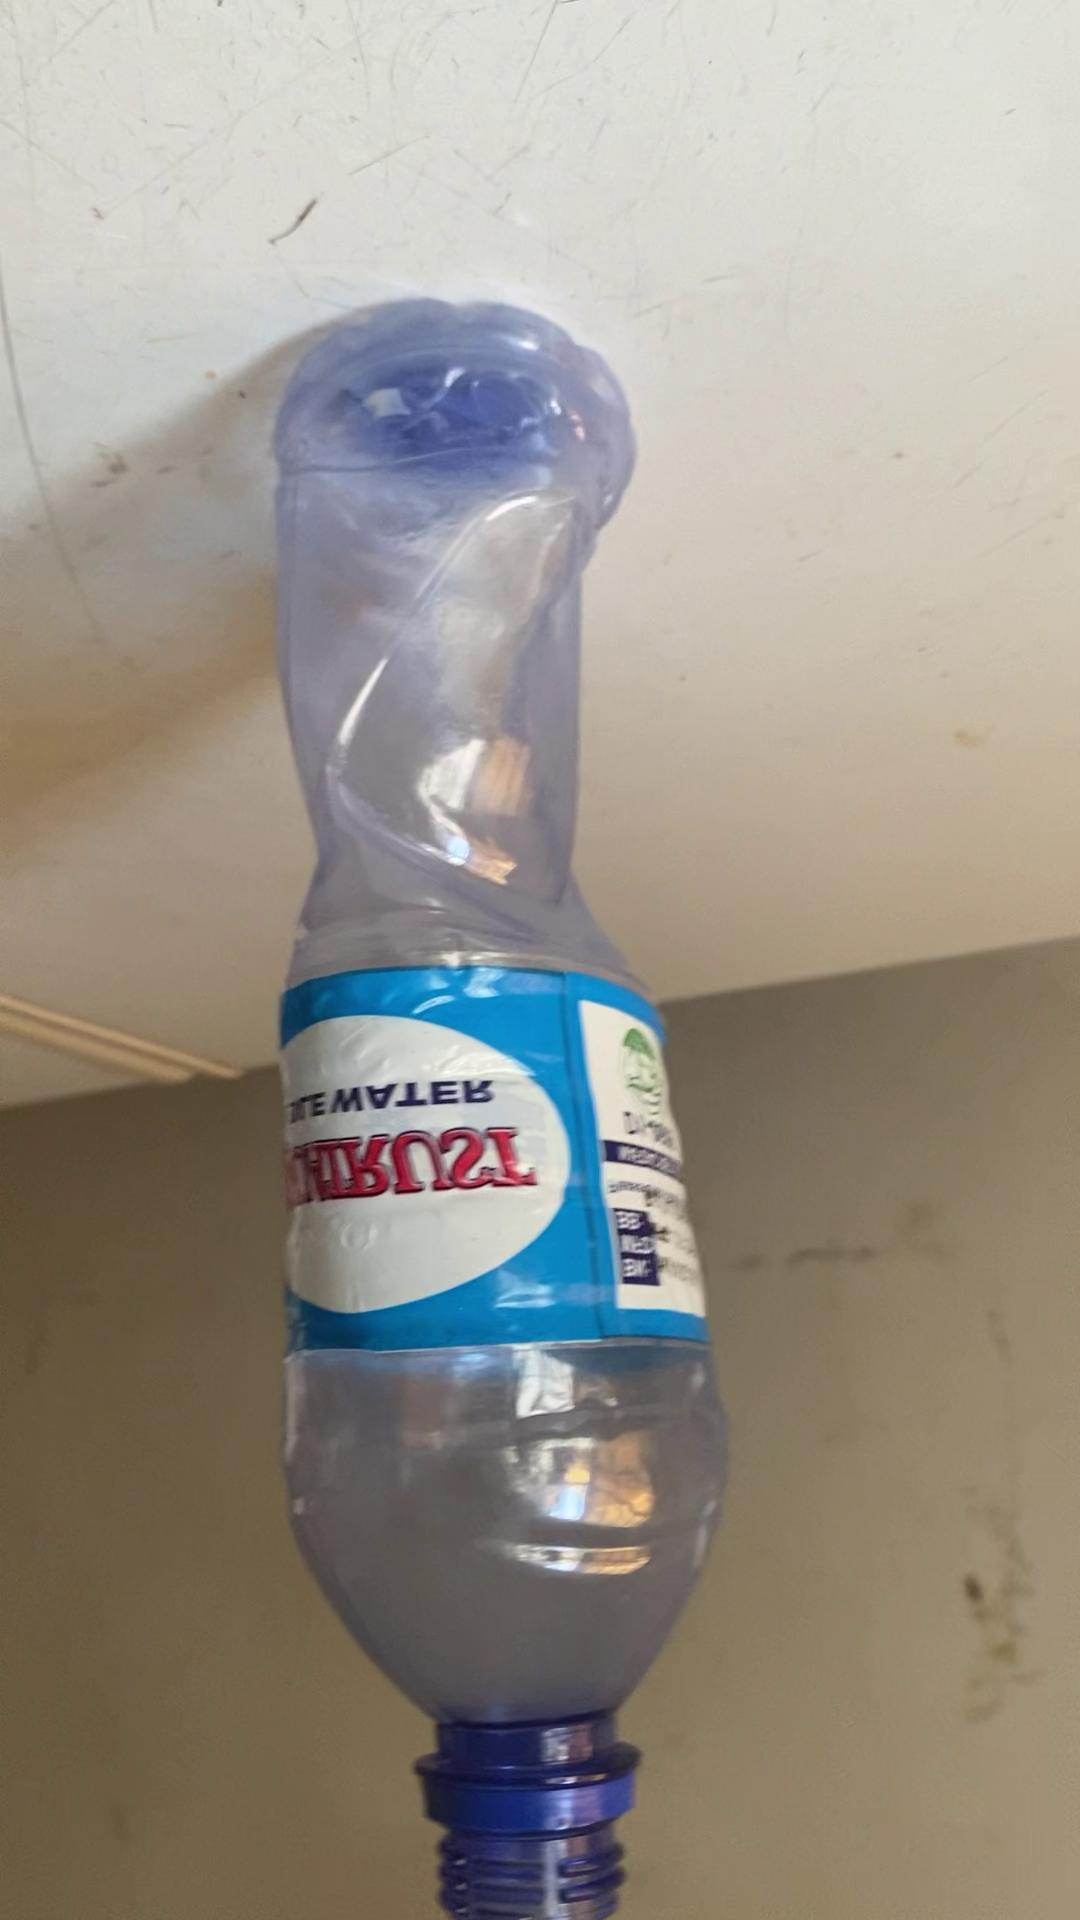crumbled: (255, 295, 744, 1920)
label: (281, 965, 707, 1356)
no-cap: (407, 1774, 641, 1920)
